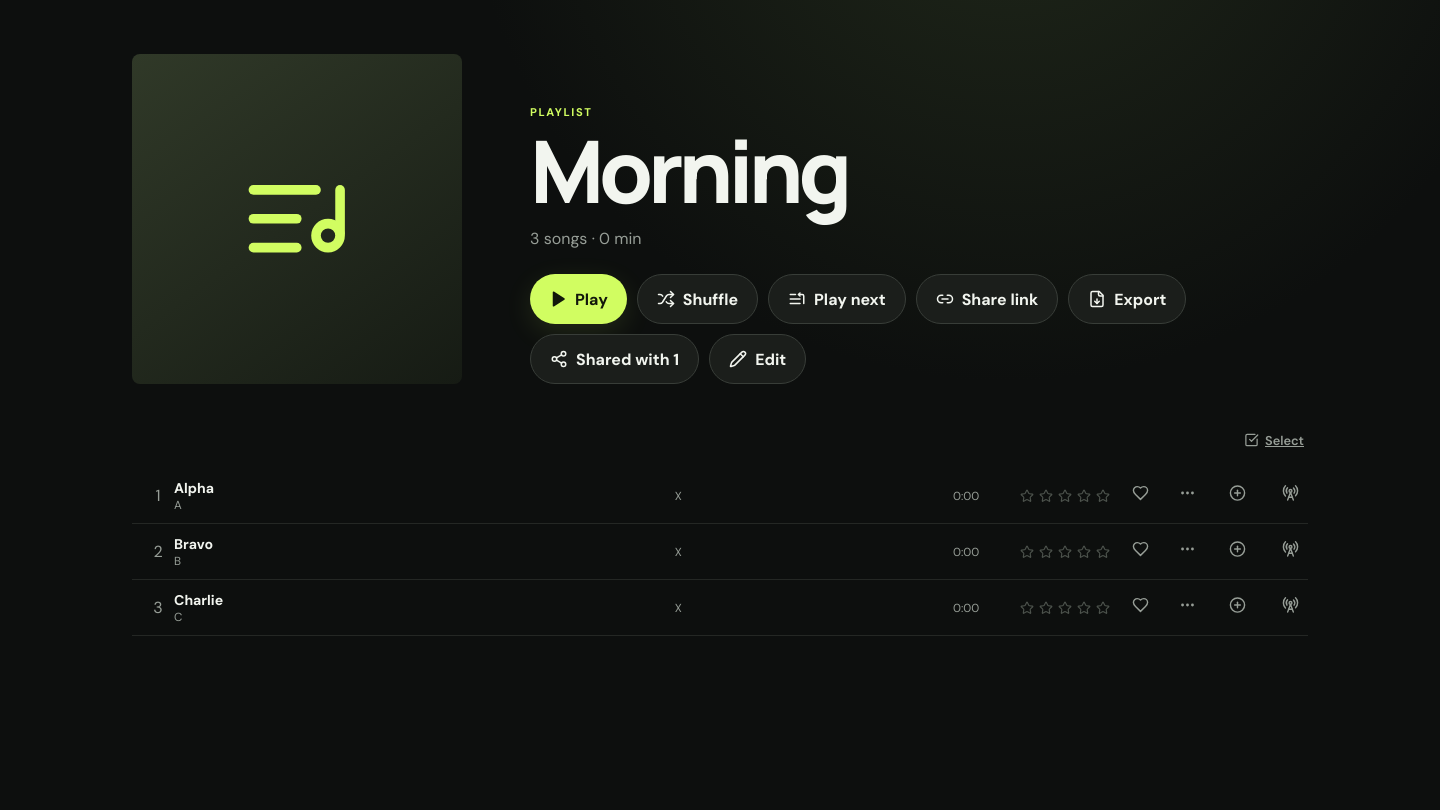
Test: PlaylistDetail editing › puts a removed track back when the server refuses
Click the button "Edit": (758, 359) [709,334,806,384]
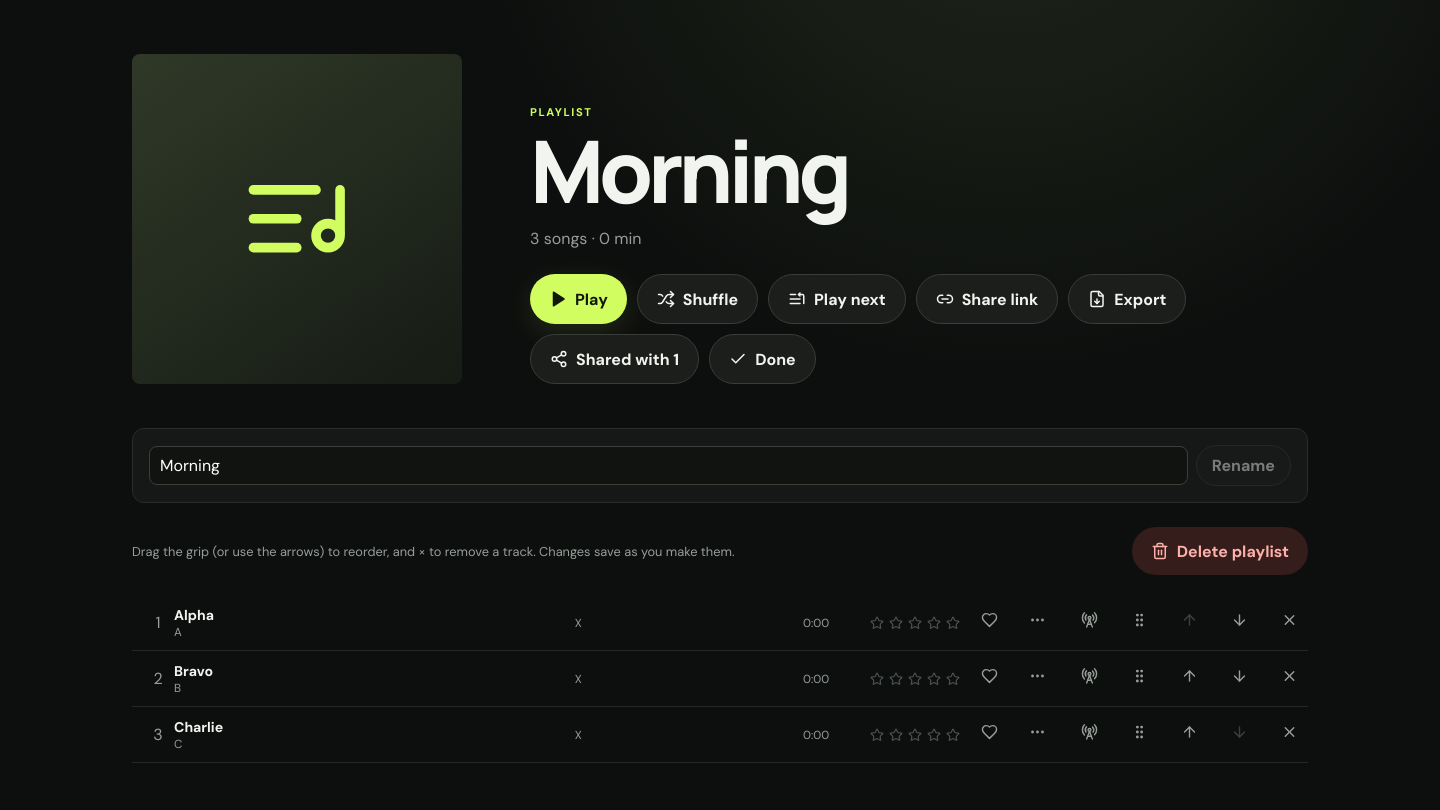
Click the button named "Remove Bravo from playlist": (1290, 678) [1272,657,1308,700]
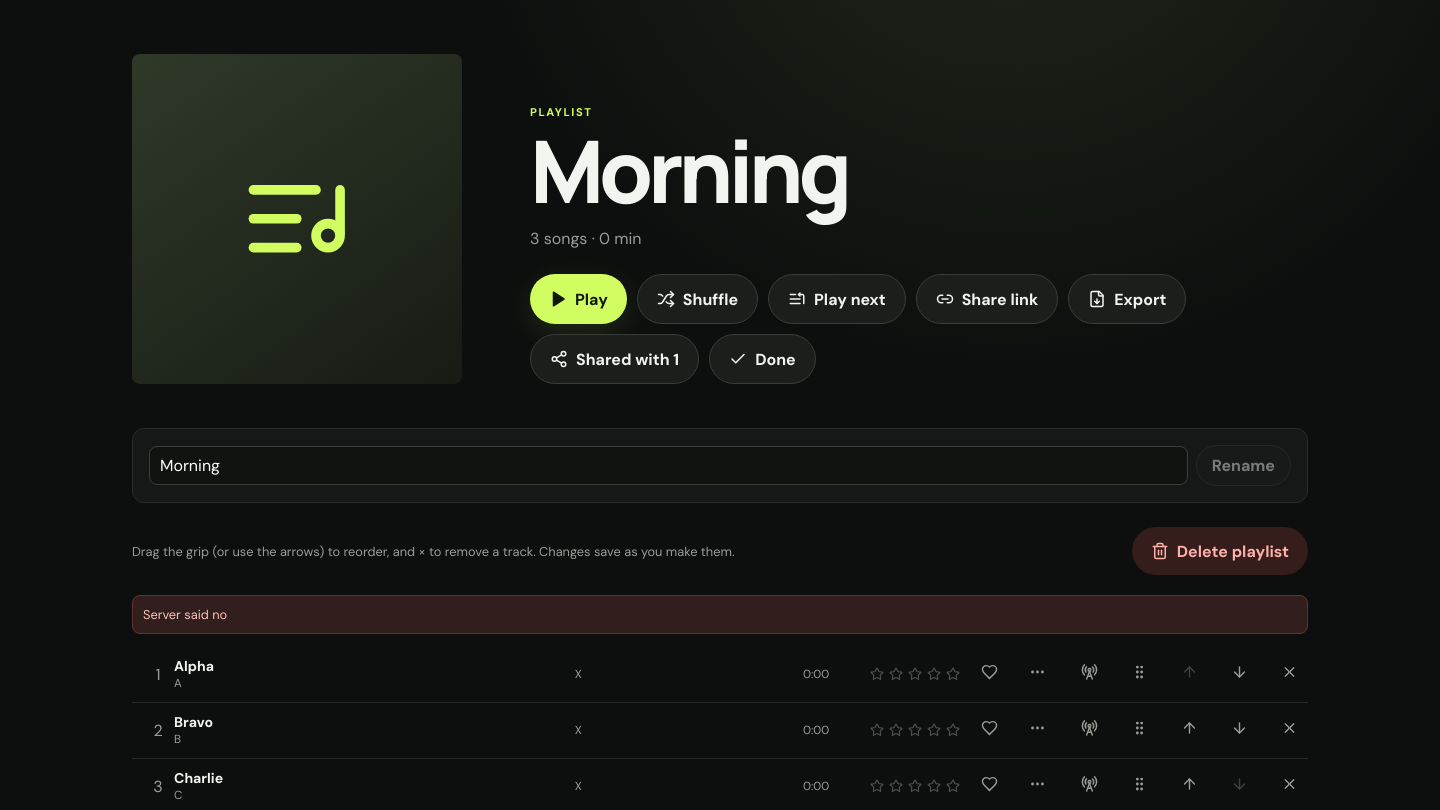
Result: the message reads "Server said no" at [143,606,227,623]
